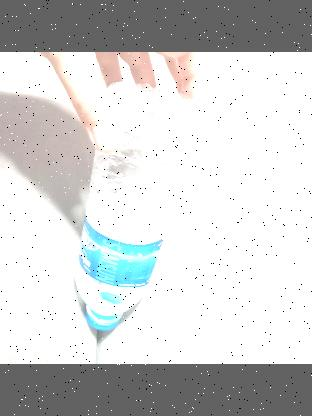Plastic Bottle: (68, 84, 198, 344)
